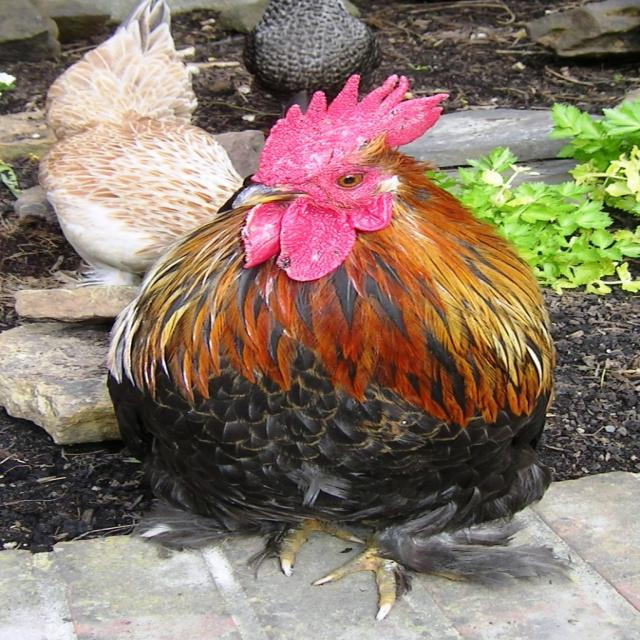Chicken: (103, 67, 564, 638)
